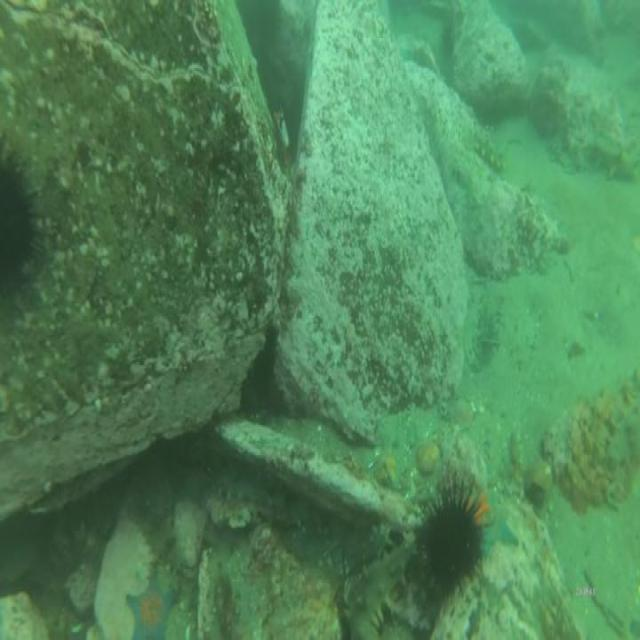echinus: (412, 460, 486, 616), (1, 130, 50, 316)
holothurian: (348, 539, 412, 632), (471, 122, 505, 177)
starfish: (464, 480, 523, 560), (124, 561, 182, 640)
